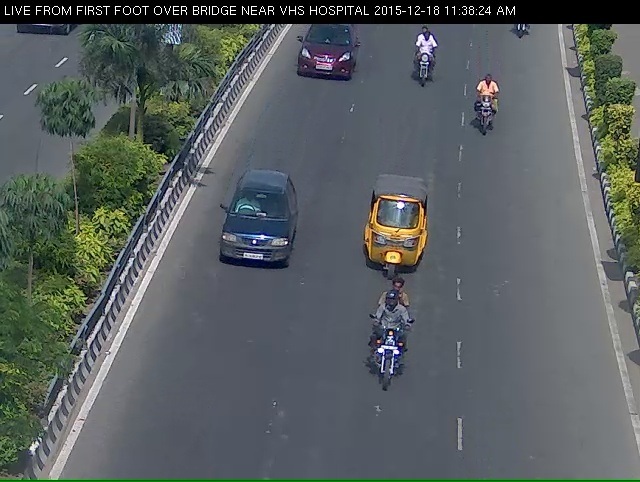Car: (357, 188, 439, 300), (217, 194, 293, 295), (293, 30, 362, 101)
Person: (365, 310, 416, 421), (410, 33, 441, 103), (474, 86, 504, 154)
